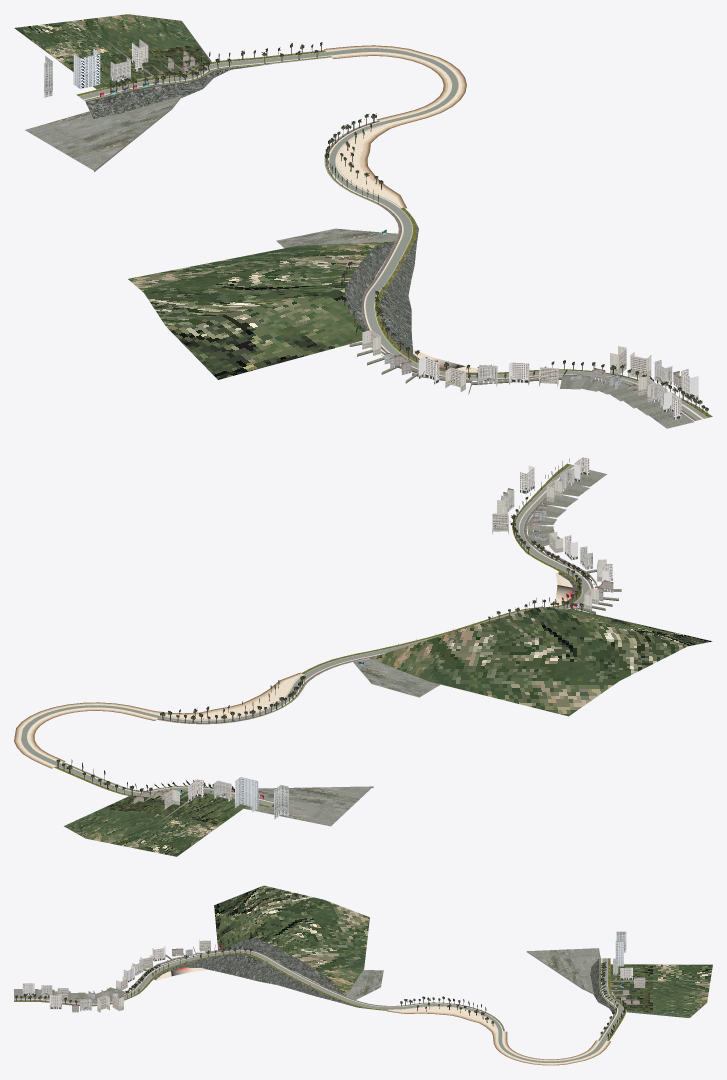
The model's file is stage-beac-env.glb.
The picture shows the model from 3 angles, top to bottom: view 1: azimuth 30°, elevation 25°; view 2: azimuth 150°, elevation 25°; view 3: azimuth 270°, elevation 25°; orthographic projection. The views are drawn at different scales.
Parts seen in each view (by area): view 1: env part 1, env part 2, env part 0; view 2: env part 1, env part 2, env part 0; view 3: env part 1, env part 2, env part 0.
Part boxes in pixels (x1,y1,x2,y2): env part 1: (14,14,712,428); env part 2: (44,39,708,419); env part 0: (78,45,707,420); env part 1: (53,463,712,856); env part 2: (56,457,613,819); env part 0: (14,464,590,806); env part 1: (14,885,712,1041); env part 2: (15,931,645,1039); env part 0: (14,950,624,1065).
Size of the model in its own units: 1822 by 174 by 3451.
29 materials, 29 textured.
